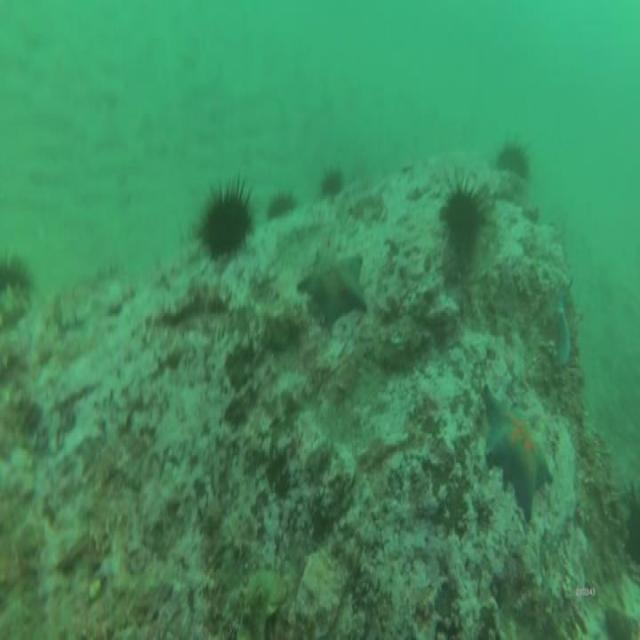echinus: (198, 192, 252, 254), (446, 190, 480, 247), (493, 142, 530, 172), (268, 191, 296, 220), (318, 175, 341, 193)
starfish: (482, 384, 554, 517), (297, 250, 369, 320), (556, 297, 574, 364)
